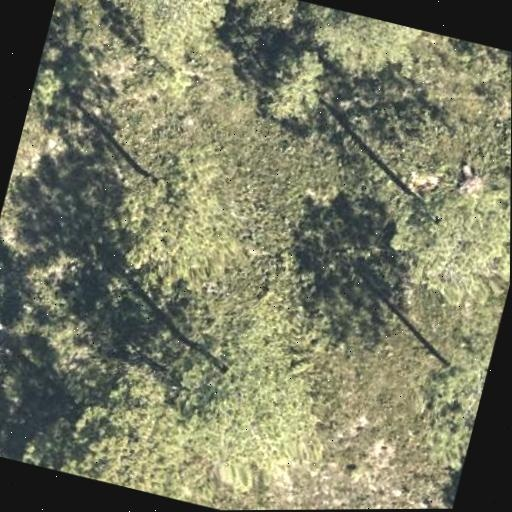tree-top: (160, 321, 345, 503), (35, 350, 211, 502), (111, 141, 260, 295), (373, 155, 511, 311), (290, 1, 428, 90), (248, 35, 339, 132), (122, 0, 231, 77)
